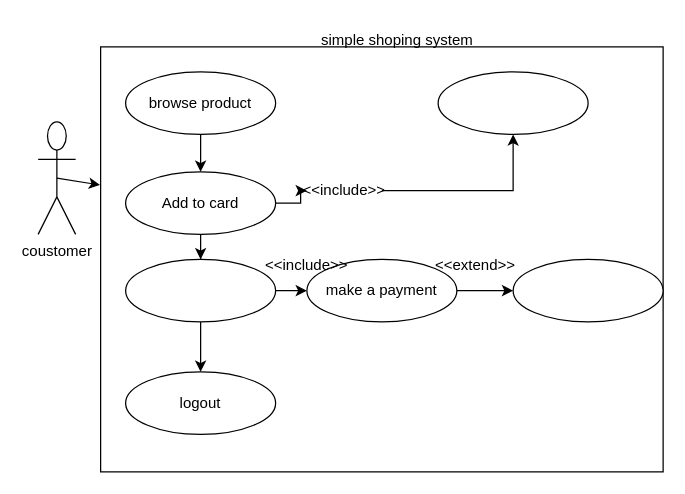
Some shapes in this 685 by 494 pixel diagram are drawn without their labels. Each missing label, with the centre of its shape:
apply discount: the point at 587,290
buy product: the point at 200,290
login: the point at 512,102
